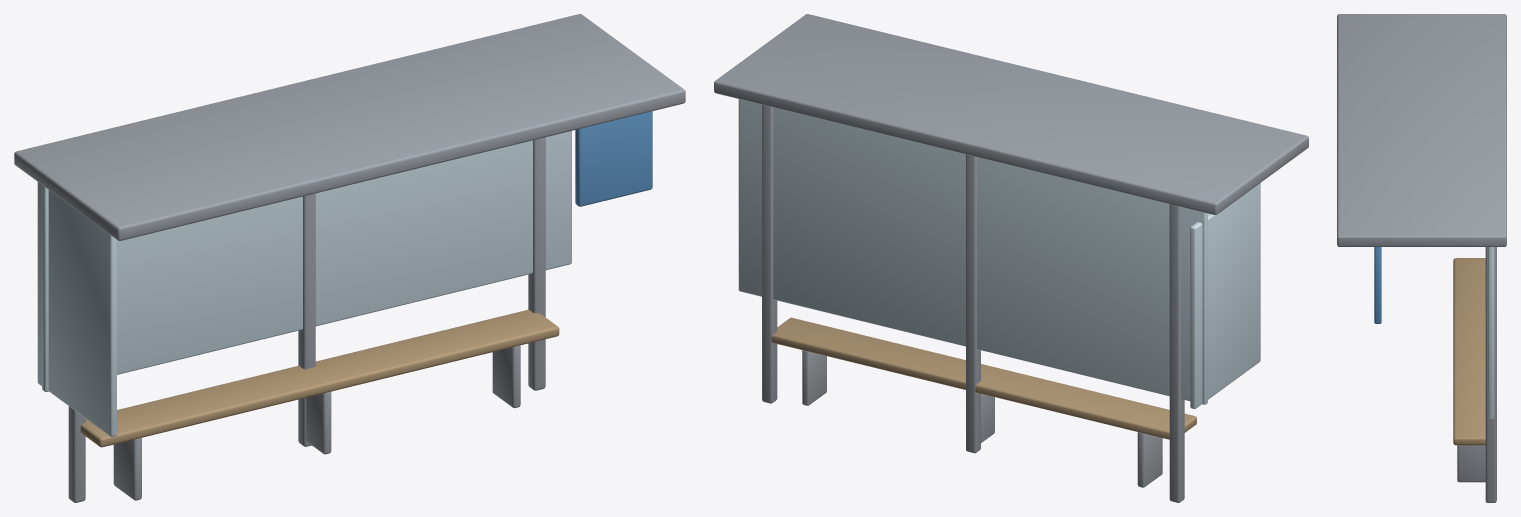
The model's file is th5_bushaltestelle.glb.
3 renders of one model, left to right at view 1: azimuth 30°, elevation 25°; view 2: azimuth 150°, elevation 25°; view 3: azimuth 270°, elevation 25°, orthographic. The views are drawn at different scales.
Visible parts, largest first — view 1: Cube.004, Cube.003, Cube.006, Cube.005, Cube.010, Cube.002, Cube.001, Cube.009, Cube, Cube.007, Cube.008; view 2: Cube.003, Cube.004, Cube.005, Cube.006, Cube, Cube.002, Cube.001, Cube.007, Cube.009; view 3: Cube.004, Cube.006, Cube.002, Cube.003, Cube.009, Cube.010.
Part boxes in pixels (box(x1,y1,x2,y2)): Cube.004: box(14, 14, 685, 240); Cube.003: box(42, 131, 571, 391); Cube.006: box(80, 309, 559, 447); Cube.005: box(37, 182, 116, 436); Cube.010: box(575, 111, 652, 206); Cube.002: box(528, 137, 545, 390); Cube.001: box(298, 193, 315, 446); Cube.009: box(492, 345, 520, 408); Cube: box(68, 406, 85, 502); Cube.007: box(113, 438, 141, 500); Cube.008: box(306, 391, 331, 454); Cube.003: box(738, 99, 1207, 404); Cube.004: box(714, 14, 1308, 214); Cube.005: box(1190, 183, 1260, 408); Cube.006: box(771, 317, 1196, 439); Cube: box(1169, 204, 1184, 502); Cube.002: box(762, 104, 777, 403); Cube.001: box(966, 154, 980, 453); Cube.007: box(1137, 432, 1162, 487); Cube.009: box(802, 350, 826, 405); Cube.004: box(1337, 14, 1506, 246); Cube.006: box(1453, 258, 1485, 445); Cube.002: box(1485, 247, 1496, 502); Cube.003: box(1488, 247, 1494, 419); Cube.009: box(1457, 445, 1485, 482); Cube.010: box(1374, 247, 1381, 323).
Size of the model in its own units: 4.2 by 2.51 by 1.35.
